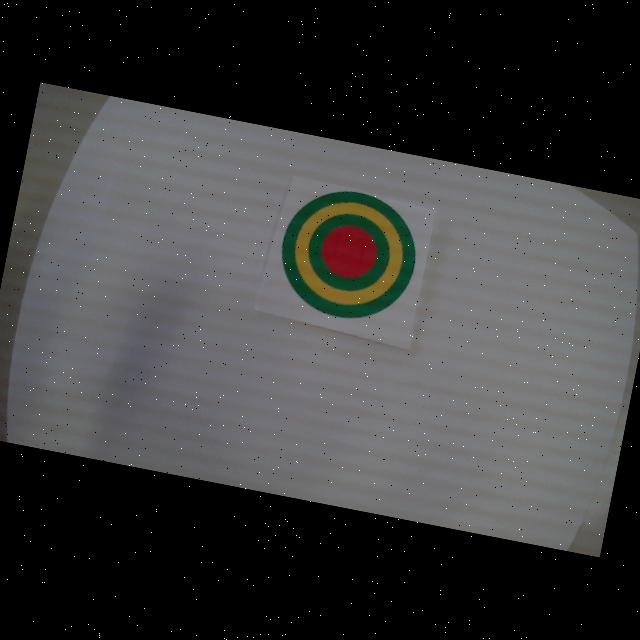COGNITIVE: (272, 180, 426, 331)
